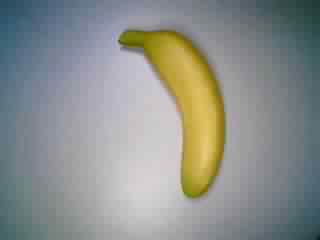banana: (113, 24, 234, 201)
